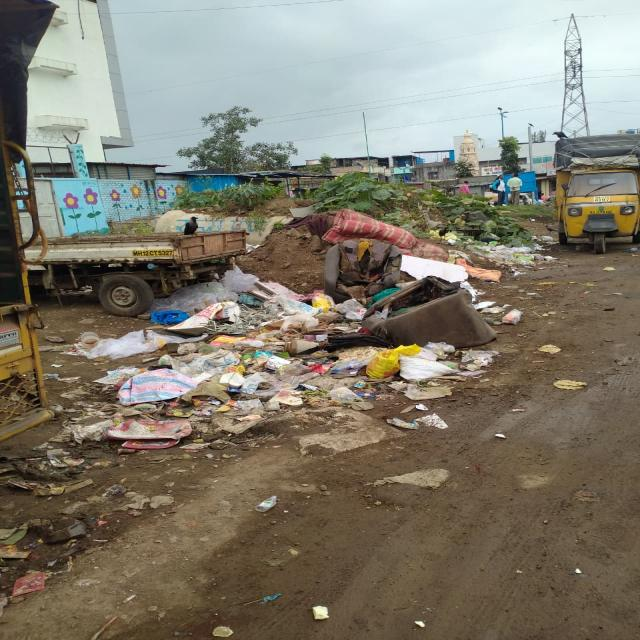garbage: (115, 280, 465, 443), (260, 216, 524, 286)
